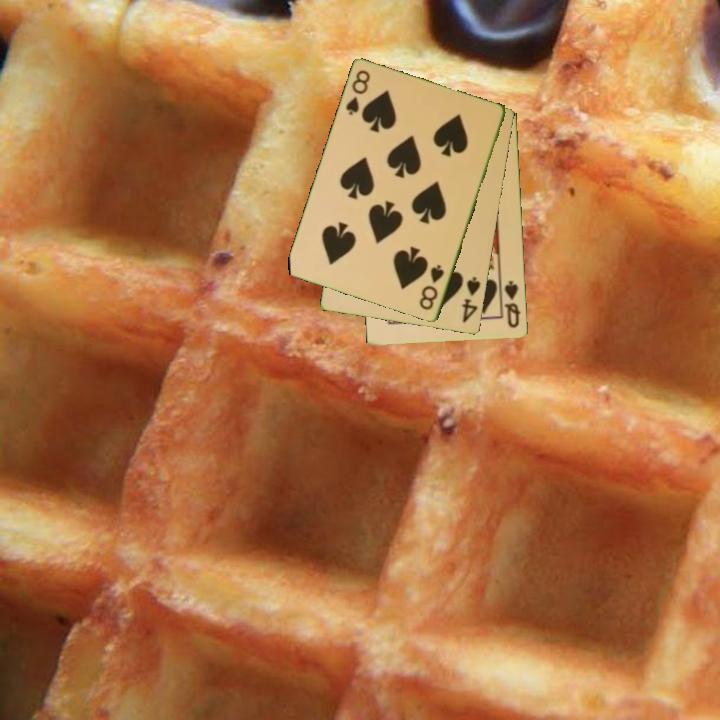4s: (459, 274, 484, 326)
8s: (416, 261, 447, 313), (342, 67, 373, 118)
Qs: (501, 277, 524, 331)
